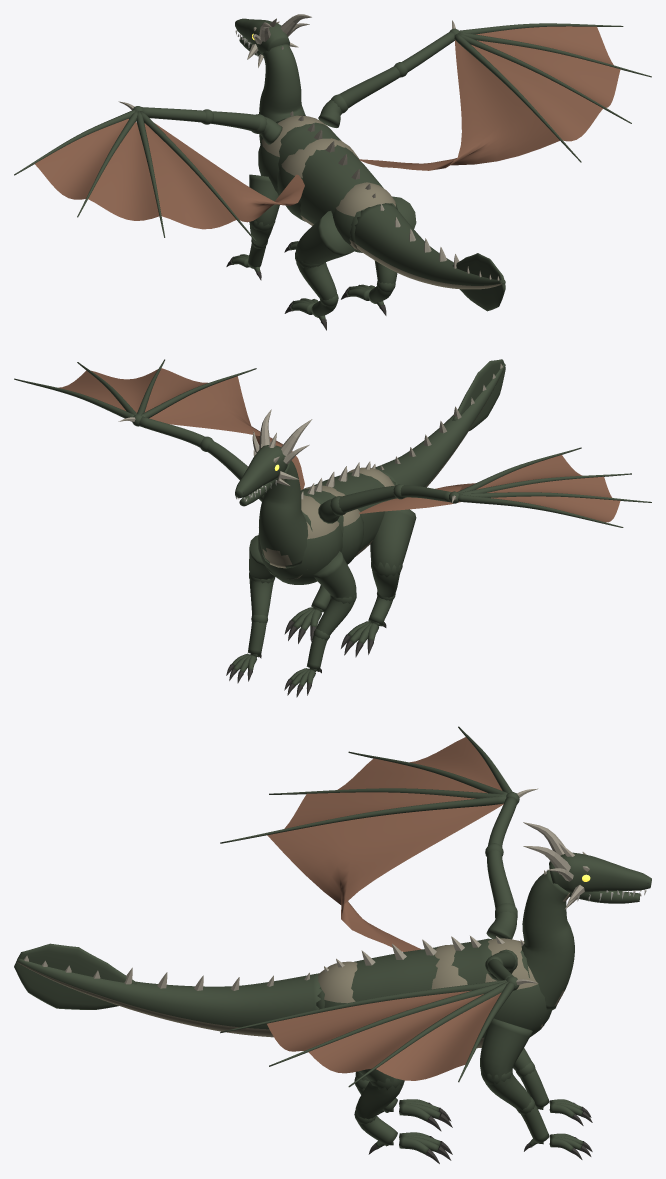
The model's file is dragon.glb.
3 renders of one model, top to bottom at view 1: azimuth 30°, elevation 25°; view 2: azimuth 150°, elevation 25°; view 3: azimuth 270°, elevation 25°, orthographic. The views are drawn at different scales.
Visible parts, largest first — view 1: Dragon; view 2: Dragon; view 3: Dragon.
Boxes of the visible parts, left/top/right/bottom form: Dragon: left=14, top=14, right=651, bottom=330; Dragon: left=14, top=359, right=651, bottom=697; Dragon: left=14, top=726, right=651, bottom=1163.
Bounding box in the file's own units: 7.04 × 2.85 × 5.35.
